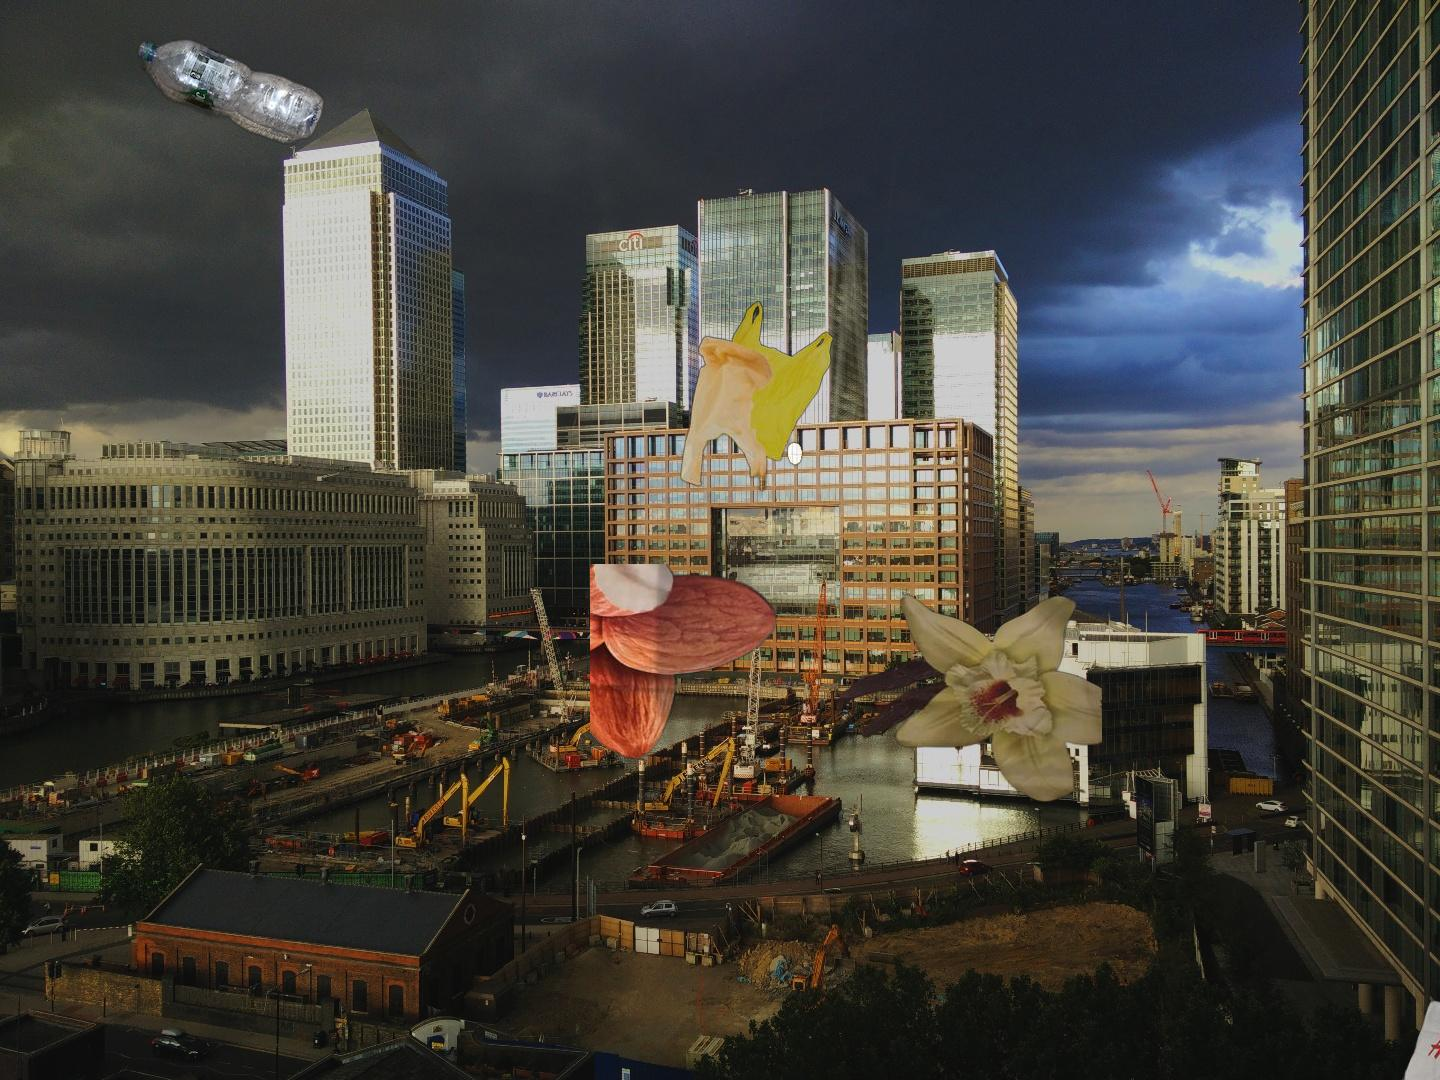glass: (702, 732, 1184, 1080)
paper-bag: (1398, 997, 1440, 1080)
plastic-bag: (678, 298, 924, 577)
plastic-bottles: (134, 35, 328, 149)
trashbox-cardboard: (590, 564, 1102, 804)
